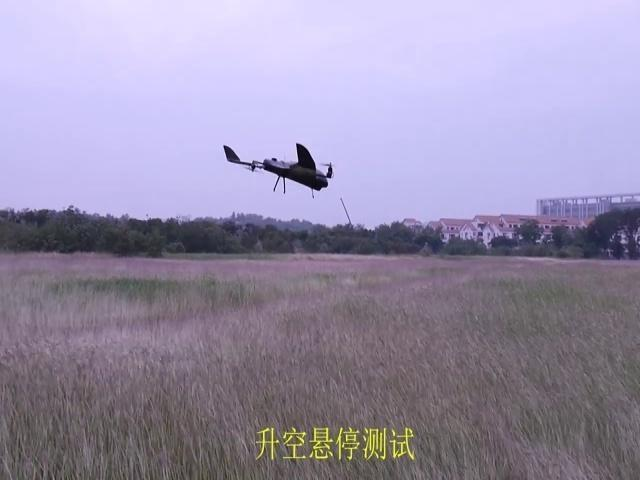Airplane: (223, 142, 333, 199)
